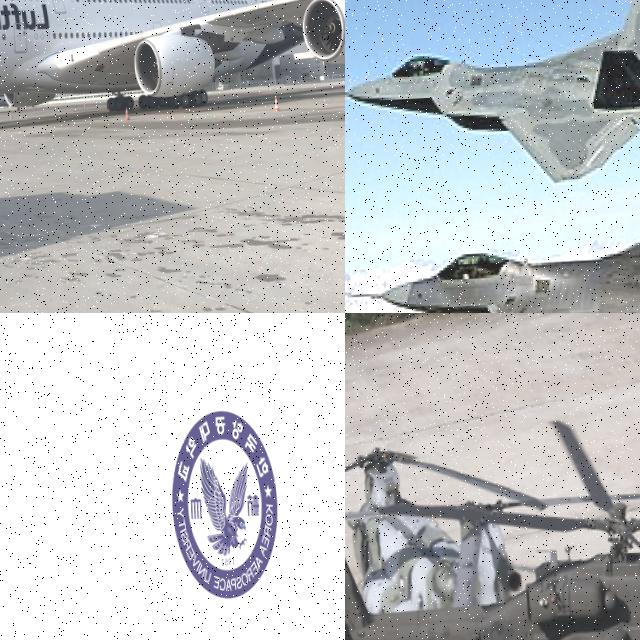A380: (0, 0, 345, 144)
Apache: (345, 435, 640, 640)
F22: (345, 0, 640, 200), (345, 152, 640, 313)
KAU_Marker: (166, 404, 280, 600)
